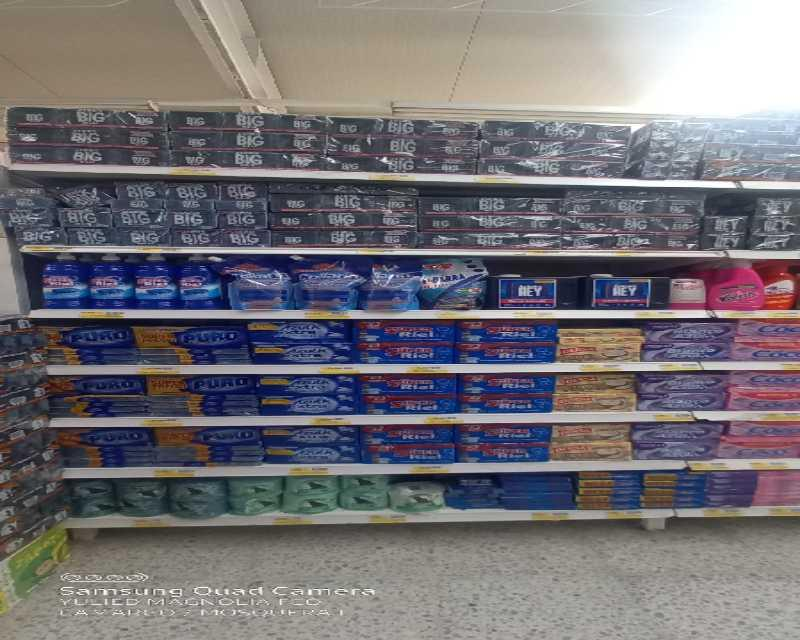BE-CLEAN-TIPO-REY-AZUL-BOTELLA-2000_6: (491, 272, 581, 313), (585, 271, 672, 313)
SUPER-RIEL-AZUL-BOTELLA-925_50: (41, 254, 88, 309), (90, 254, 135, 310), (181, 255, 224, 309), (137, 255, 179, 310)
SUPER-RIEL-AZUL-DOY-PACK-1600_51: (226, 255, 295, 311), (291, 256, 361, 311), (360, 258, 422, 311)
